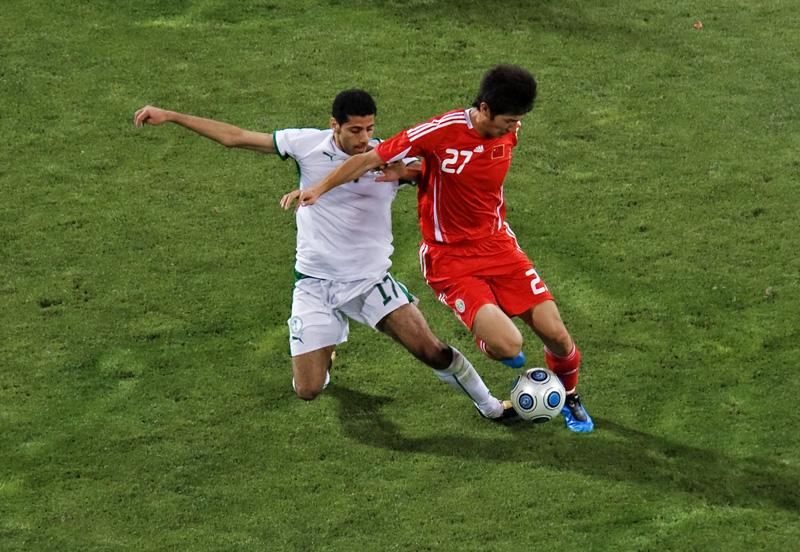football: (513, 369, 565, 425)
